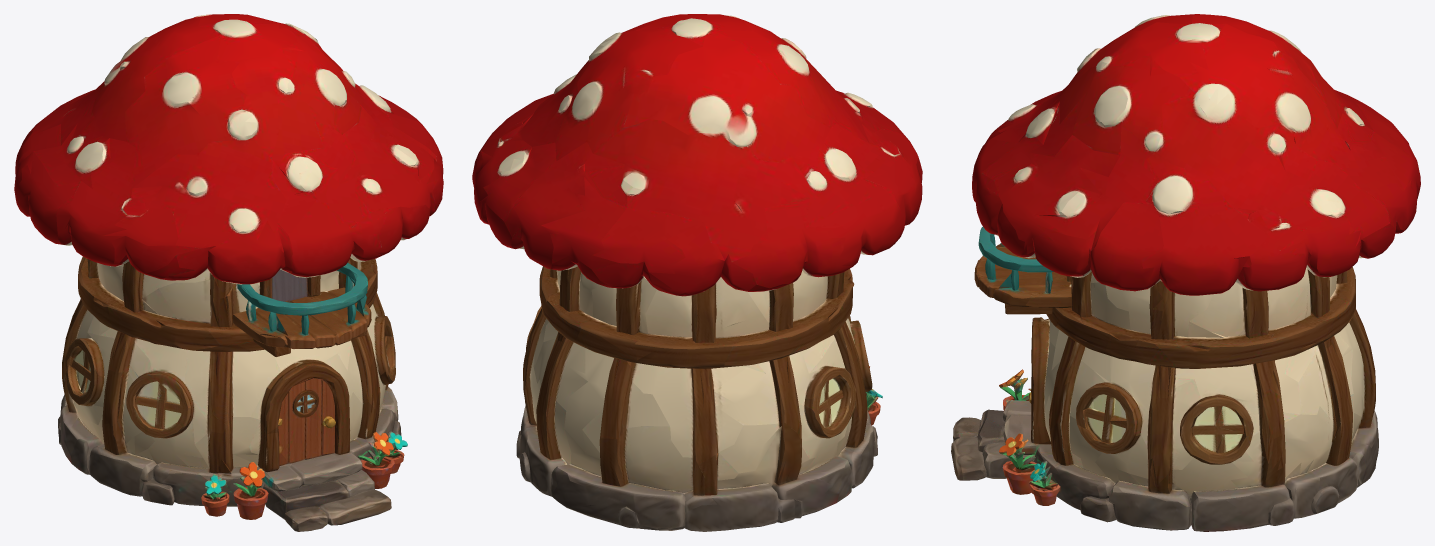
File: ch1_mushroom_house.fbx
3 renders of one model, left to right at view 1: azimuth 30°, elevation 25°; view 2: azimuth 150°, elevation 25°; view 3: azimuth 270°, elevation 25°, orthographic. The views are drawn at different scales.
Parts seen in each view (by area): view 1: ch1_mushroom_house; view 2: ch1_mushroom_house; view 3: ch1_mushroom_house.
Part boxes in pixels (box(x1,y1,x2,y2)): ch1_mushroom_house: box(14, 14, 443, 531); ch1_mushroom_house: box(472, 14, 922, 531); ch1_mushroom_house: box(951, 14, 1420, 531).
Bounding box in the file's own units: 6.17 × 6.5 × 6.41.
Materials: 1 (1 with a texture image).
